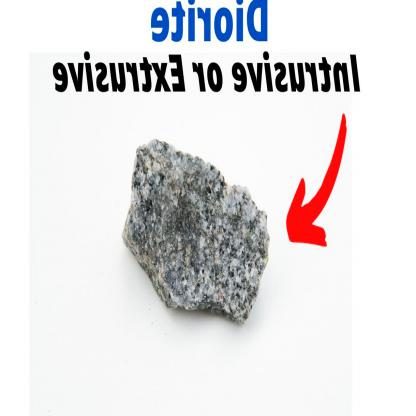Igneous_Diorite: (155, 197, 227, 303)
